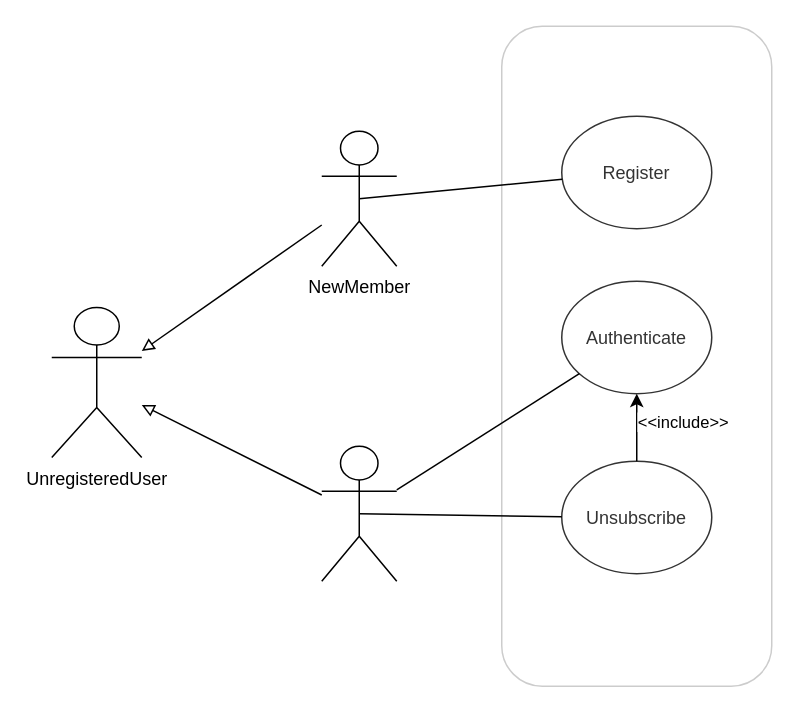
This 798x713 diagram has some shape labels left out. Here are the shapes that lost their labels. From the top down, the centre of each, then its label:
At point (636, 355): "Authentication".
At point (358, 513): "RegisteredMember".
